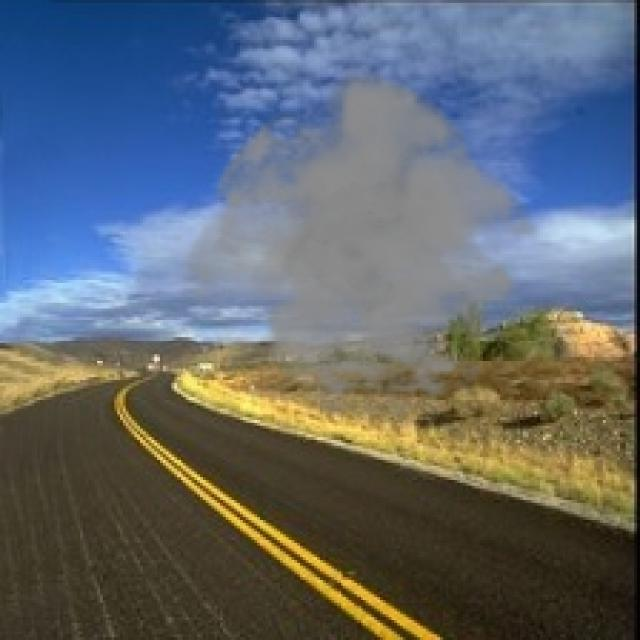Smoke: (177, 66, 552, 420)
